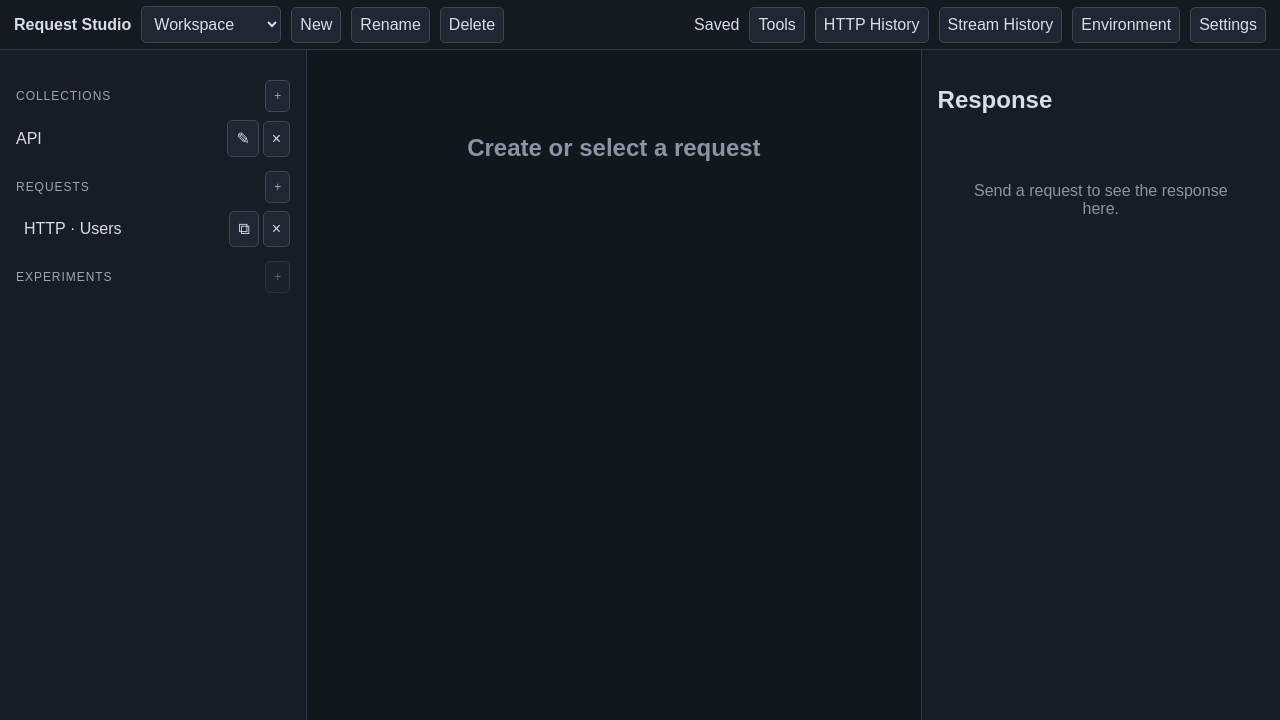
Test: opens and closes Code Generation from the Tools menu with the selected request
Click the button "HTTP · Users": (121, 229) [16,212,225,246]
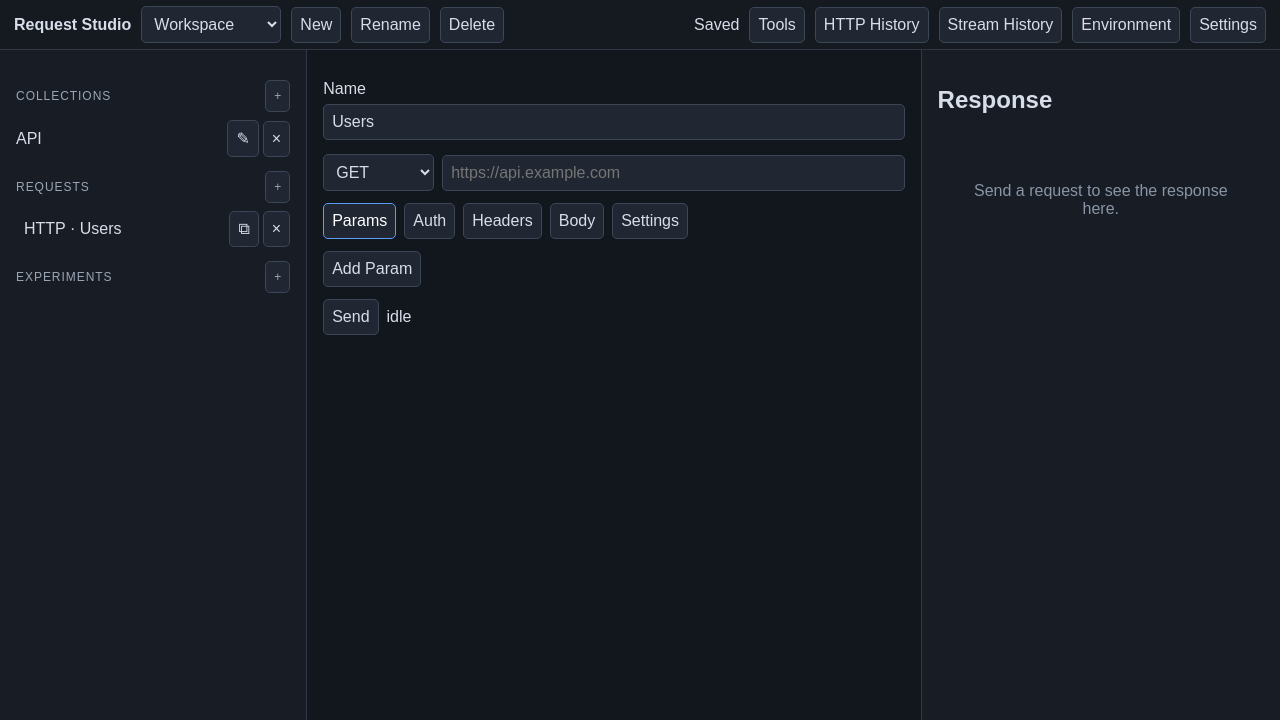
Click the button "Tools": (777, 24) [750,6,805,42]
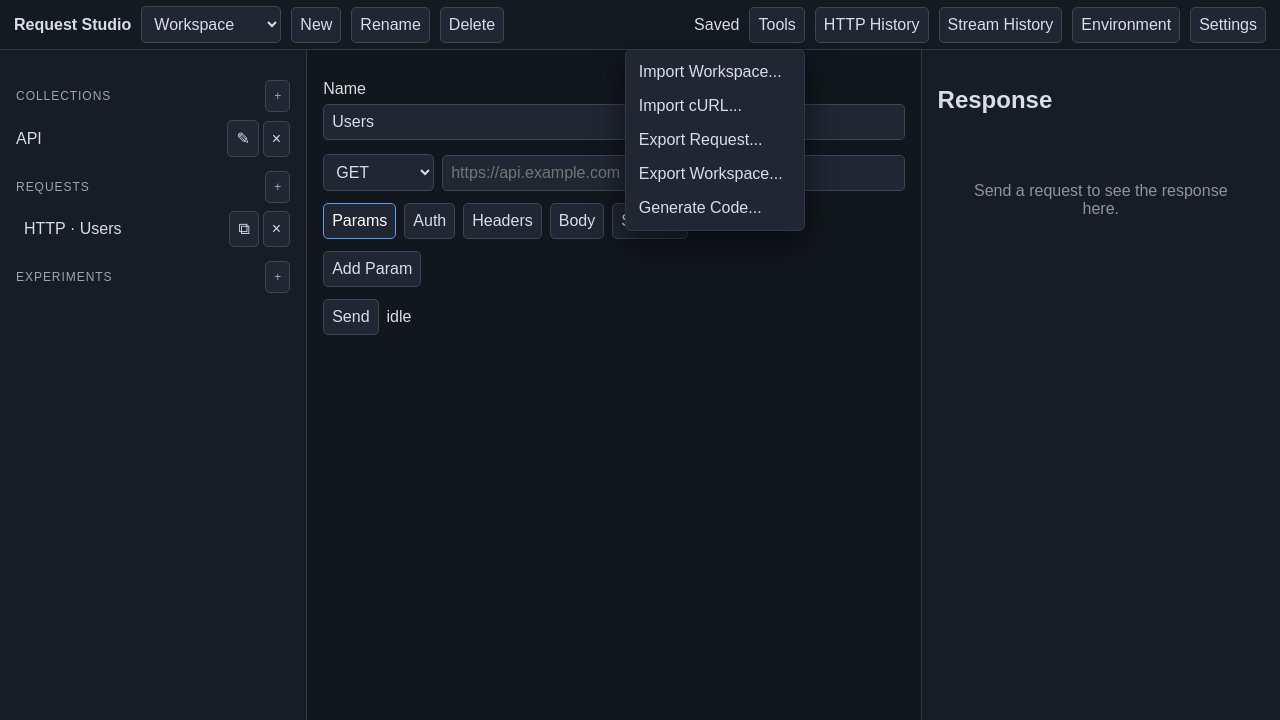
Click the menu item "Generate Code...": (715, 208) [631,190,799,224]
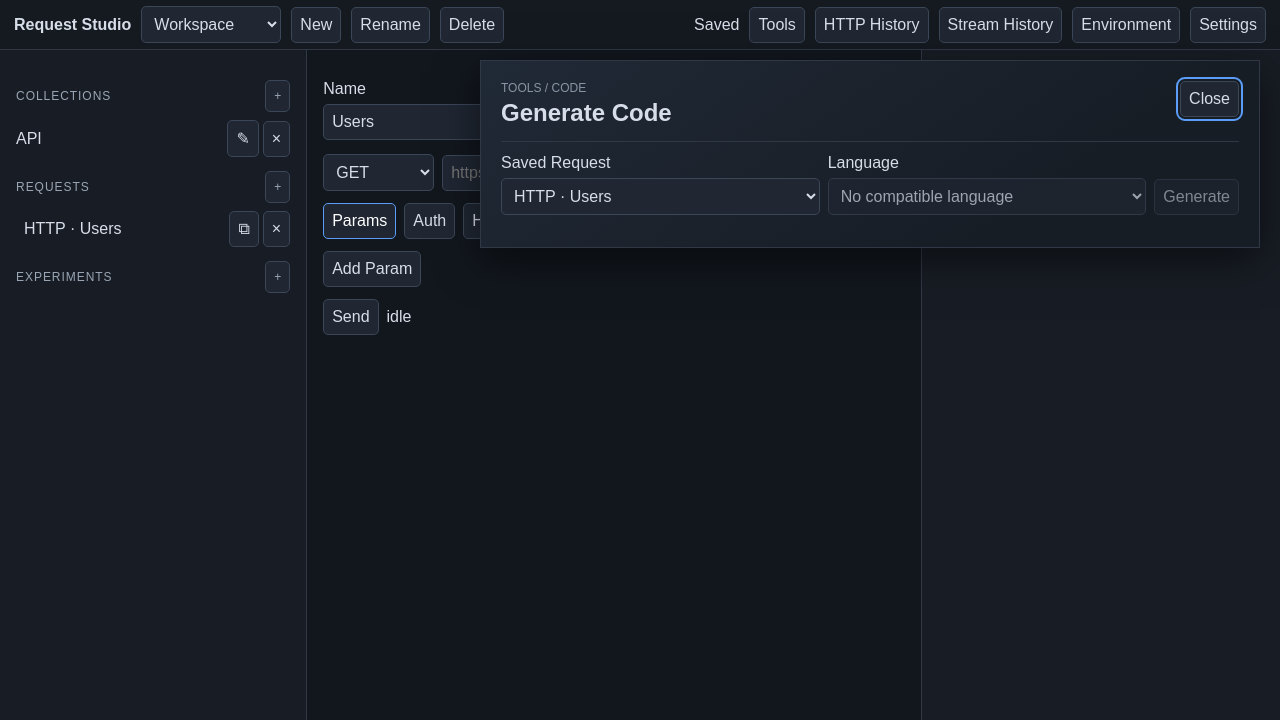
Result: the dialog "Generate Code" is shown at [480,60,1260,248]
Result: the dropdown labelled "Saved Request" shows "HTTP · Users" at [501,178,820,215]
Click the button "Close": (1210, 99) [1180,81,1239,117]
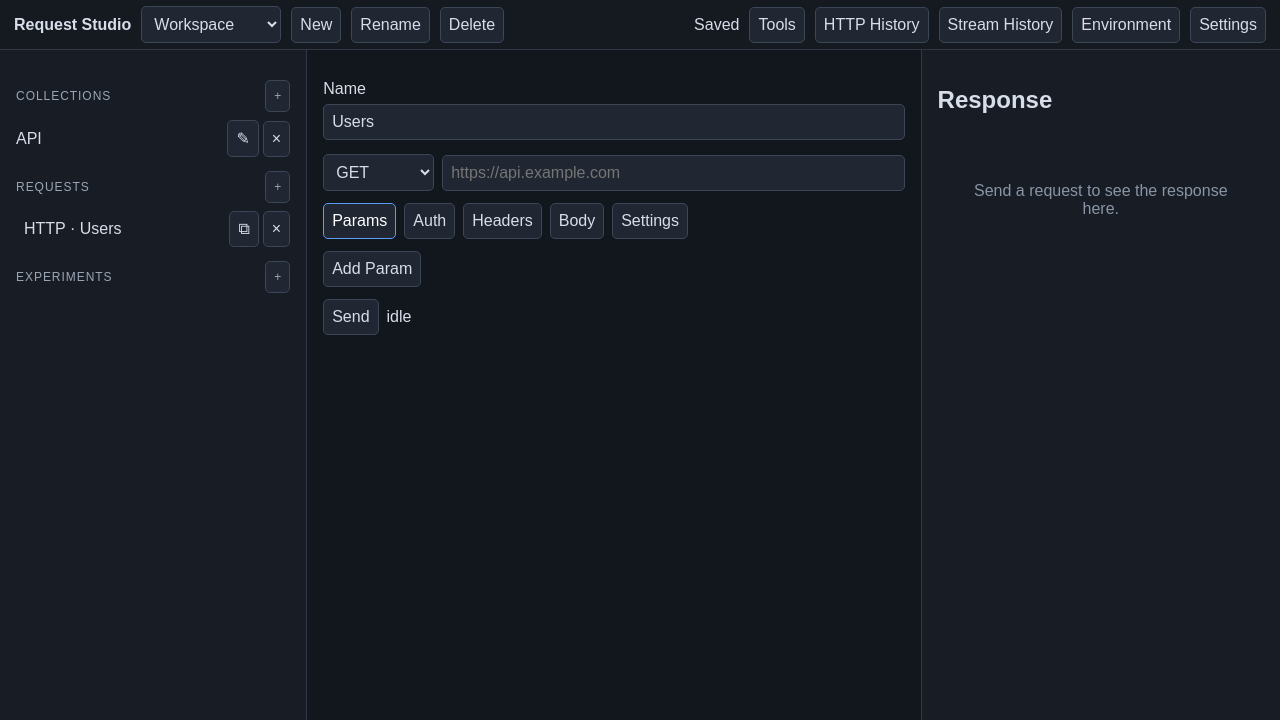
Result: the heading "Generate Code" is gone
